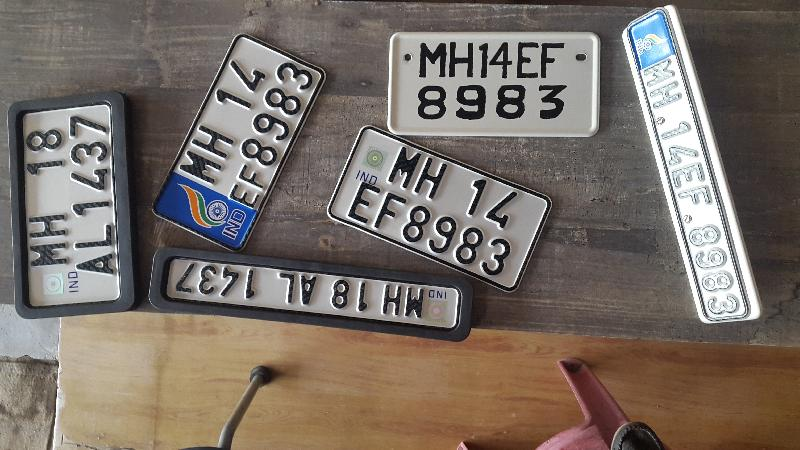number_plate: (146, 243, 481, 339), (388, 28, 601, 136)
